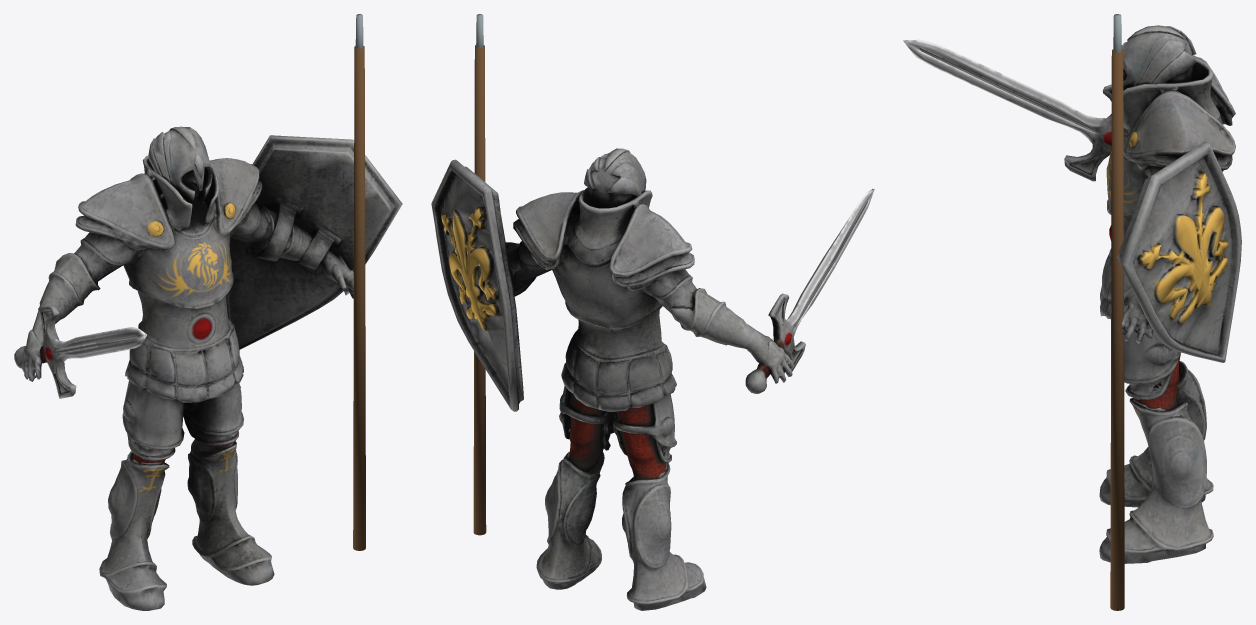
The model's file is actor-guardsman.glb.
3 renders of one model, left to right at view 1: azimuth 30°, elevation 25°; view 2: azimuth 150°, elevation 25°; view 3: azimuth 270°, elevation 25°, orthographic. The views are drawn at different scales.
Visible parts, largest first — view 1: Group61487.001 · posed; view 2: Group61487.001 · posed; view 3: Group61487.001 · posed.
Part boxes in pixels (x1,y1,x2,y2): Group61487.001 · posed: (14,14,402,610); Group61487.001 · posed: (431,14,874,610); Group61487.001 · posed: (903,14,1241,610).
Size of the model in its own units: 1.72 by 2.39 by 1.22.
Materials: 3 (1 with a texture image).
